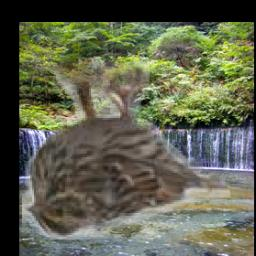Sparrow: (23, 62, 231, 240)
